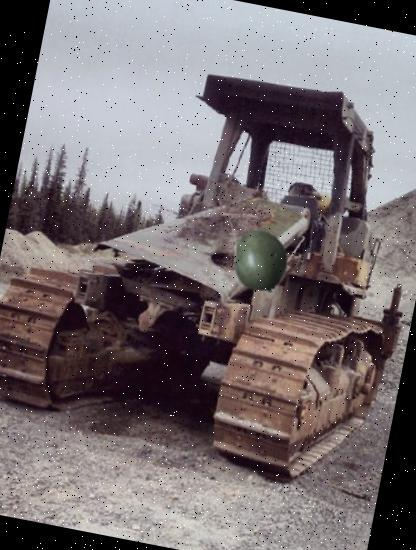Mango: (223, 224, 299, 300)
